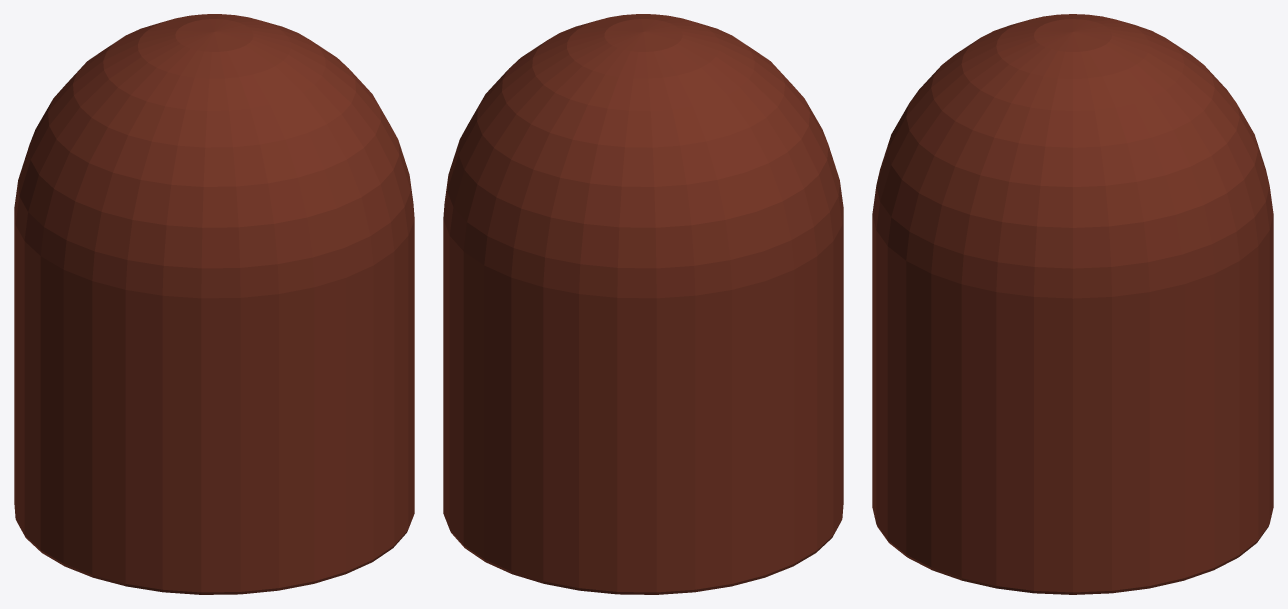
Rendered from Bullet9mm.fbx.
3 renders of one model, left to right at view 1: azimuth 30°, elevation 25°; view 2: azimuth 150°, elevation 25°; view 3: azimuth 270°, elevation 25°, orthographic.
Visible parts, largest first — view 1: Sphere; view 2: Sphere; view 3: Sphere.
Boxes of the visible parts, box(x1,y1,x2,y2) form: Sphere: box(14, 14, 414, 594); Sphere: box(443, 14, 843, 594); Sphere: box(872, 14, 1273, 594).
Bounding box in the file's own units: 40 × 52.84 × 40.
